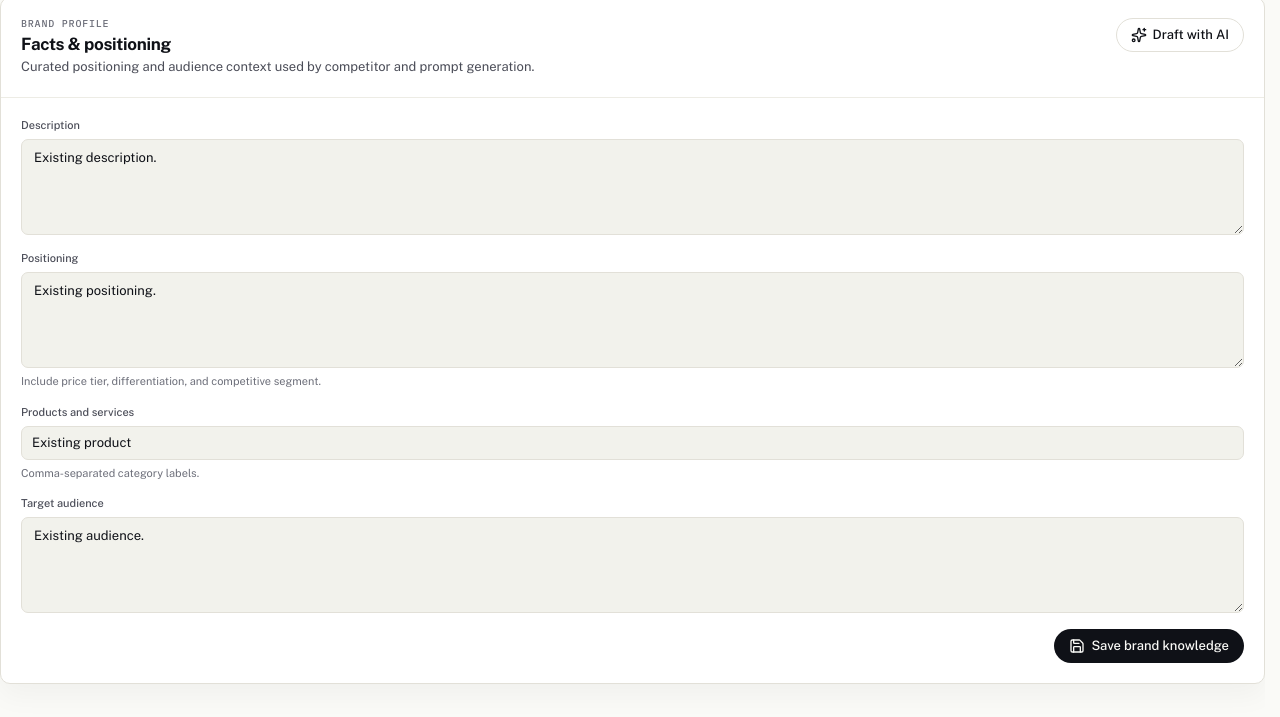
Test: BrandProfilePanel › preserves existing values for empty suggestions and can discard the draft
Click the button "Draft with AI". click: (1180, 35)
box: [1116,18,1244,52]
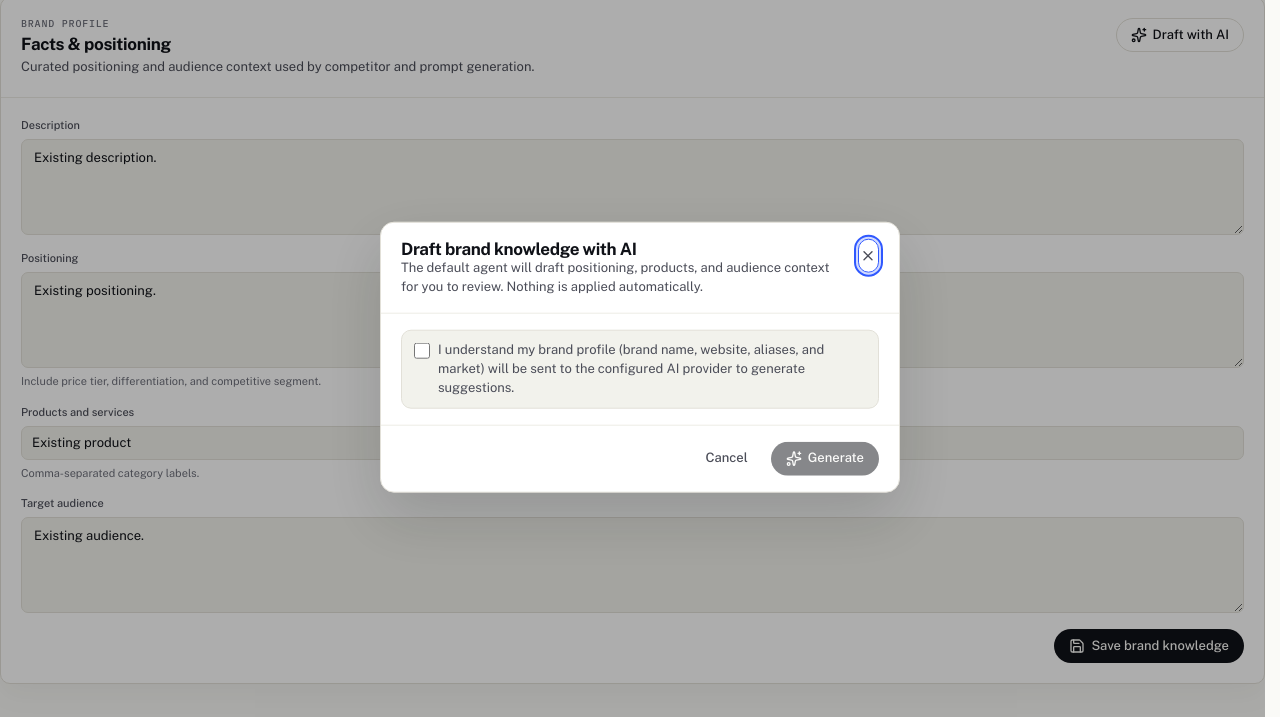
Click the checkbox named "confirm sending brand details". click: (422, 351)
box: [414,343,430,359]
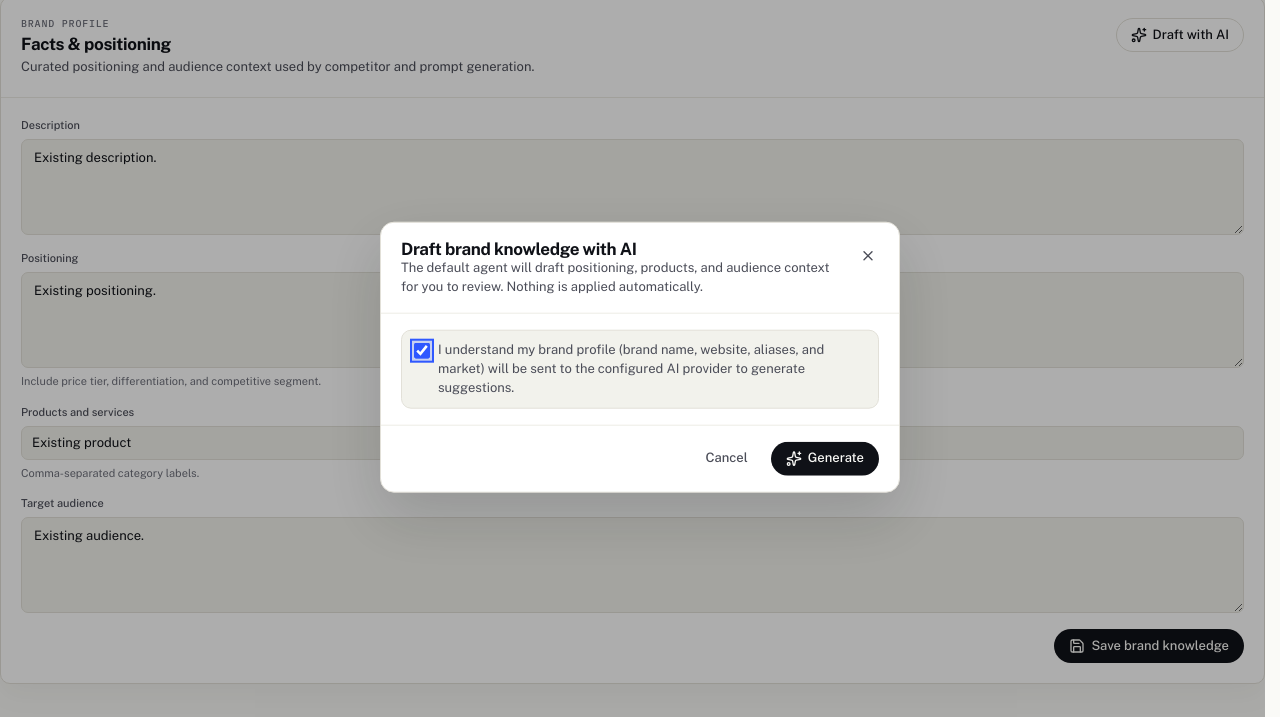
Click the button "Generate". click: (825, 458)
box: [771,441,879,475]
(page scrolled)
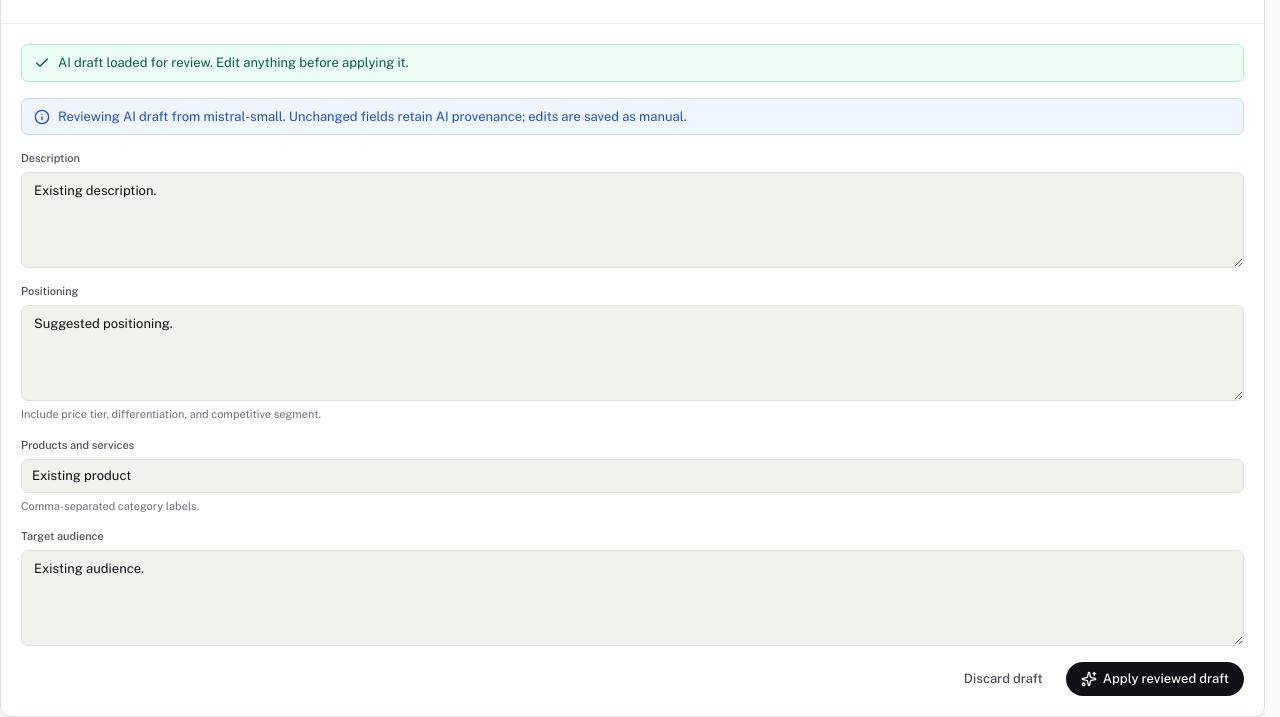
Expected: the text box labelled "Description" holds "Existing description.", [21,172,1244,268]
Expected: the text box labelled "Positioning" holds "Suggested positioning.", [21,305,1244,401]
Click the button "Discard draft". click: (1003, 679)
box: [949,662,1058,696]
(page scrolled)
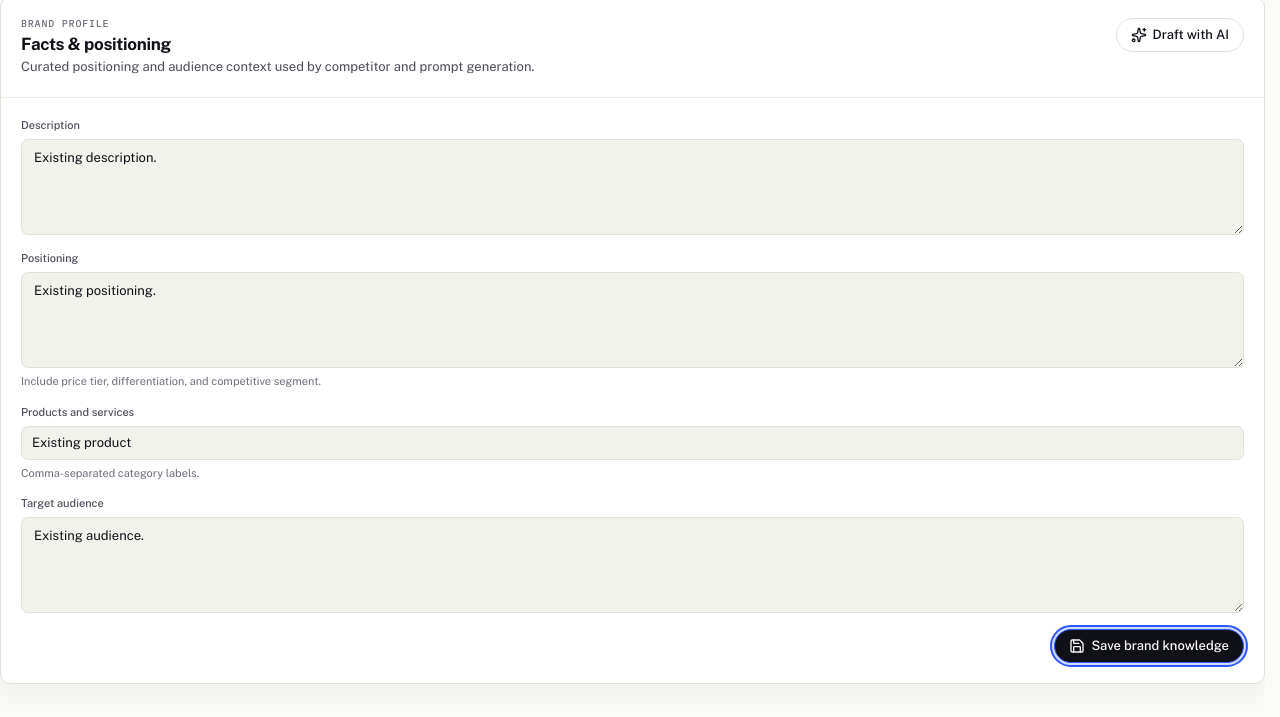
Expected: the button "Apply reviewed draft" is gone
Expected: the button "Save brand knowledge" is shown, [1054,629,1244,663]
Expected: the text box labelled "Positioning" holds "Existing positioning.", [21,272,1244,368]
